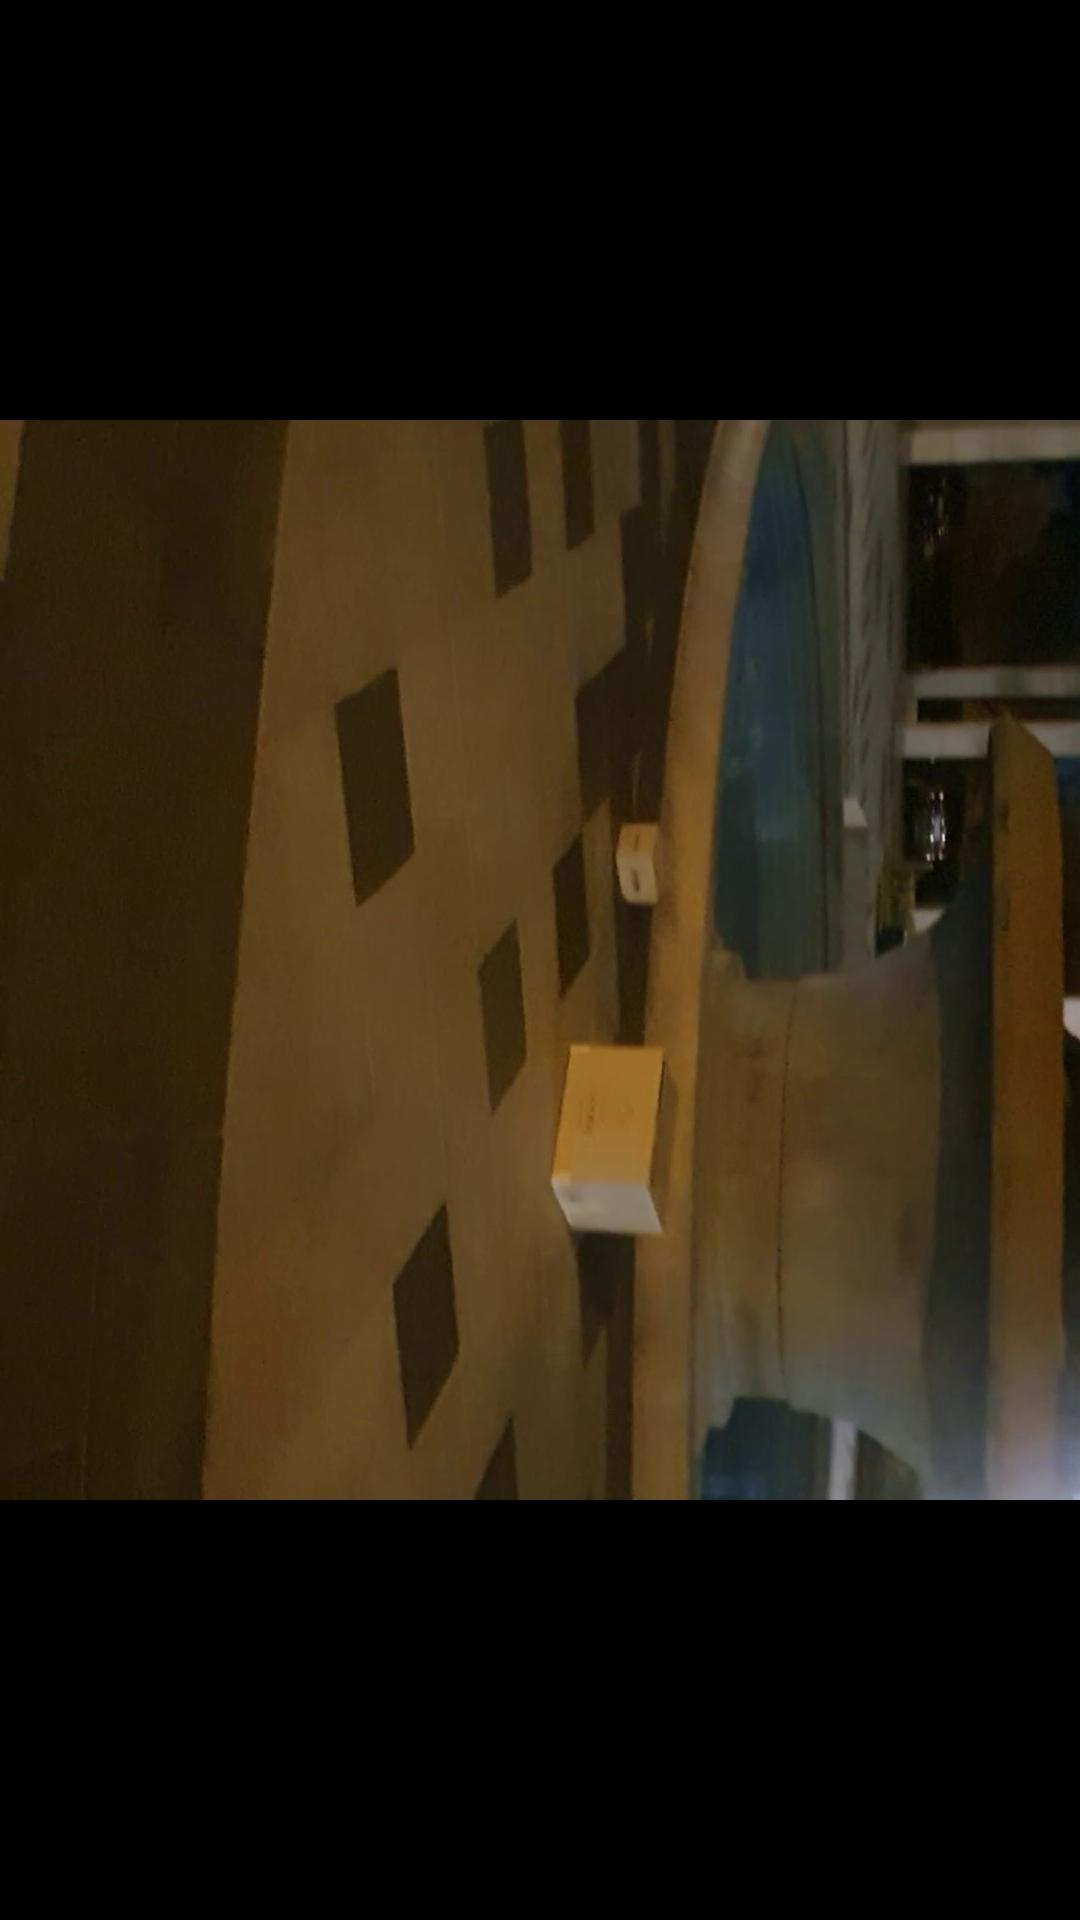Box: (535, 1021, 690, 1247), (608, 811, 680, 918)
